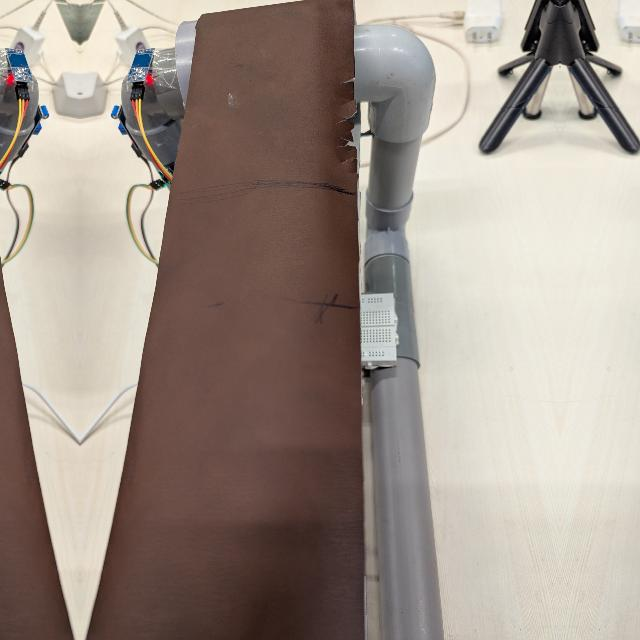edge_damage: (333, 63, 377, 177)
